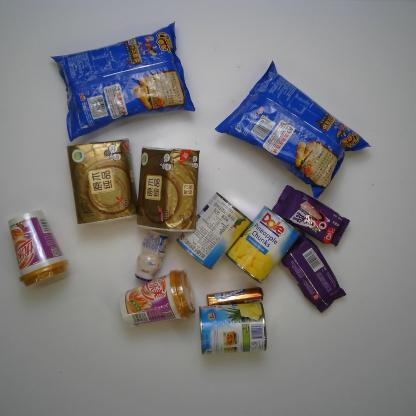Candy: (206, 286, 264, 307)
Canned Food: (175, 190, 252, 271), (224, 206, 303, 284), (198, 301, 268, 356)
Dessert: (281, 232, 348, 315), (270, 184, 350, 248)
Instant Drink: (5, 210, 70, 288), (117, 268, 197, 330)
Milk: (133, 230, 170, 283)
Puffed Food: (214, 59, 372, 200), (52, 9, 196, 143)
Tissue: (65, 137, 138, 226), (132, 145, 200, 233)
